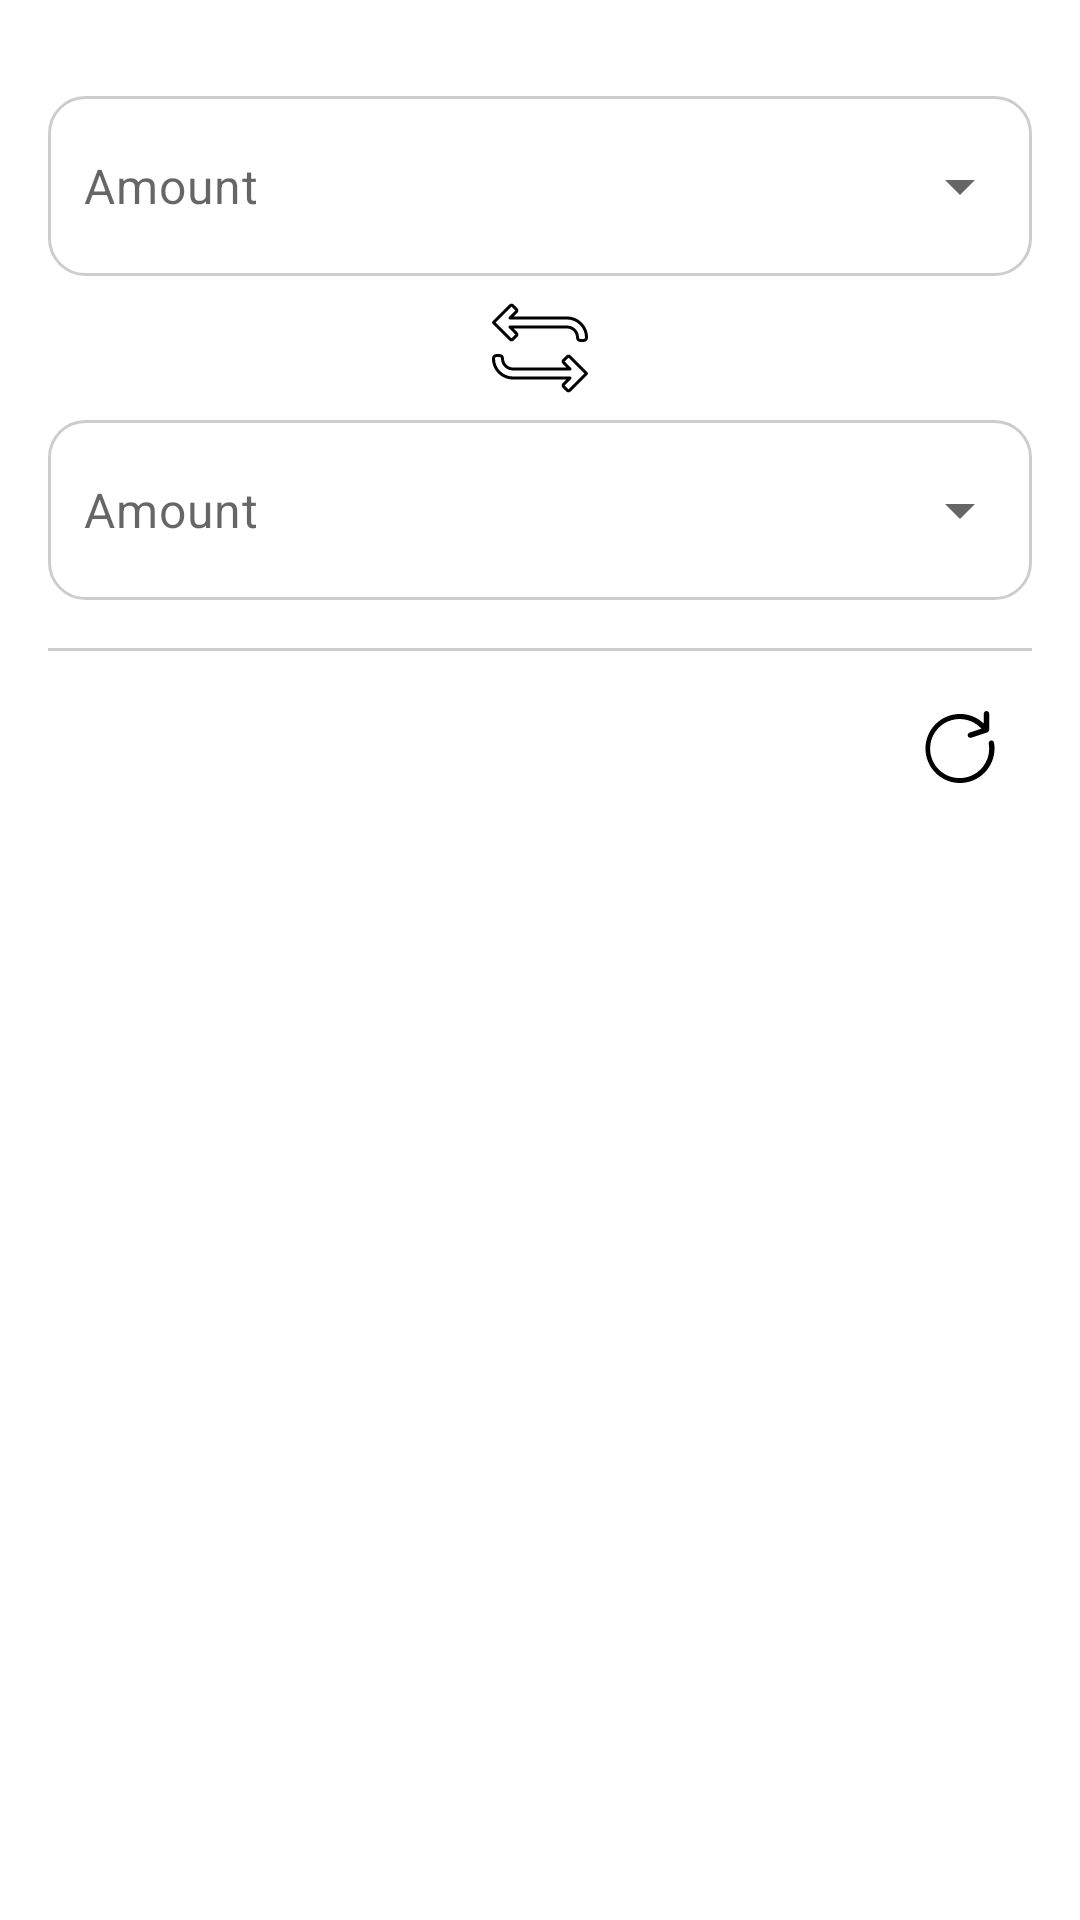

Screen size 1080px x 1920px. Icon name, then its box in pixels as (x1, y1, x2, y2):
refresh: (925, 711, 995, 783)
swap: (492, 303, 588, 393)
